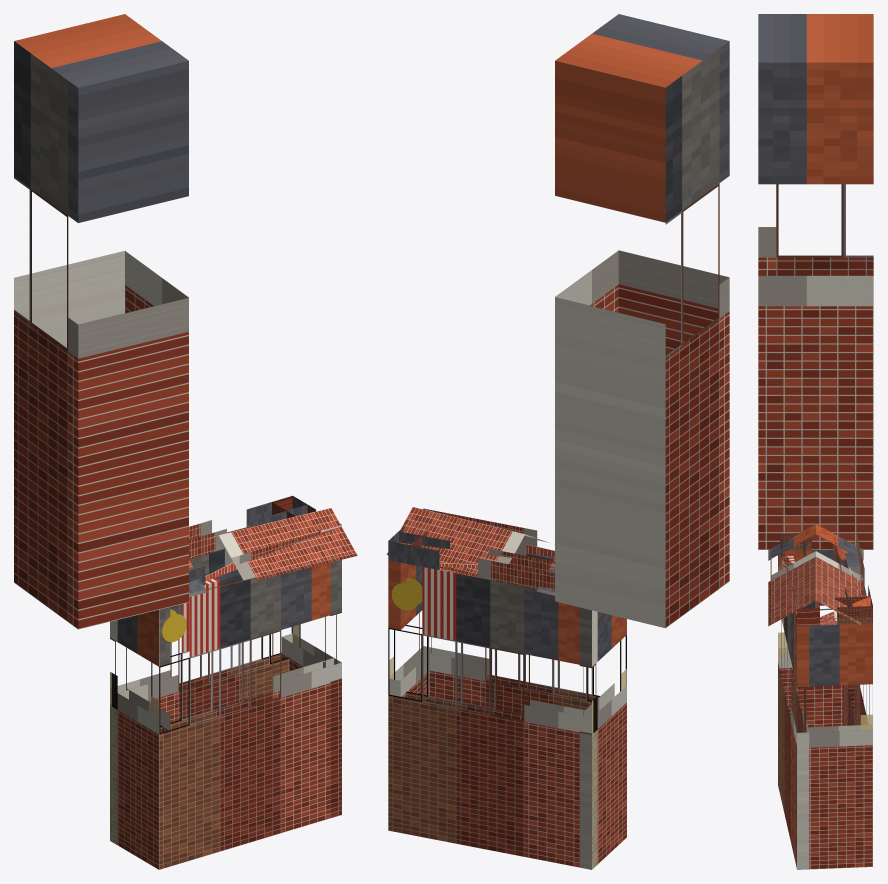
3 views of the same model, side by side, from view 1: azimuth 30°, elevation 25°; view 2: azimuth 150°, elevation 25°; view 3: azimuth 270°, elevation 25° (orthographic). The views are drawn at different scales.
Parts seen in each view (by area): view 1: 238572341__chimney_0_xb, 238572341__wall_0_xb, 238572341__wall_3_xb, 238572341__wall_2_xb, 238572341_roof_-1_xb, 238572341__wall_1_xb, 238572341__cornice_2, 238572341__cornice_0; view 2: 238572341__chimney_0_xb, 238572341__wall_2_xb, 238572341__wall_3_xb, 238572341__wall_0_xb, 238572341_roof_1_xb, 238572341__cornice_2, 238572341__wall_1_xb, 238572341__cornice_0; view 3: 238572341__chimney_0_xb, 238572341__wall_1_xb, 238572341__wall_0_xb, 238572341_roof_-1_xb, 238572341__wall_3_xb, 238572341_roof_1_xb, 238572341__wall_2_xb, 238572341__cornice_1, 238572341__cornice_0, 238572341__cornice_2, 238572341__cornice_3.
Boxes of the visible parts, box(x1,y1,x2,y2) form: 238572341__chimney_0_xb: box(14, 14, 188, 629); 238572341__wall_0_xb: box(151, 562, 341, 869); 238572341__wall_3_xb: box(110, 607, 170, 869); 238572341__wall_2_xb: box(110, 548, 300, 844); 238572341_roof_-1_xb: box(189, 508, 357, 596); 238572341__wall_1_xb: box(281, 559, 341, 817); 238572341__cornice_2: box(189, 496, 307, 558); 238572341__cornice_0: box(189, 531, 320, 585); 238572341__chimney_0_xb: box(555, 14, 729, 628); 238572341__wall_2_xb: box(388, 567, 597, 869); 238572341__wall_3_xb: box(579, 607, 626, 869); 238572341__wall_0_xb: box(417, 553, 626, 713); 238572341_roof_1_xb: box(386, 507, 554, 595); 238572341__cornice_2: box(388, 531, 554, 588); 238572341__wall_1_xb: box(388, 560, 431, 697); 238572341__cornice_0: box(423, 508, 554, 557); 238572341__chimney_0_xb: box(758, 14, 873, 549); 238572341__wall_1_xb: box(796, 622, 872, 869); 238572341__wall_0_xb: box(778, 555, 809, 869); 238572341_roof_-1_xb: box(768, 524, 815, 626); 238572341__wall_3_xb: box(778, 550, 854, 727); 238572341_roof_1_xb: box(816, 524, 863, 626); 238572341__wall_2_xb: box(843, 550, 872, 730); 238572341__cornice_1: box(795, 596, 872, 625); 238572341__cornice_0: box(780, 534, 819, 626); 238572341__cornice_2: box(833, 533, 870, 606); 238572341__cornice_3: box(780, 533, 811, 550).
Bounding box in the file's own units: 0.3858 × 1.05 × 0.15.
1 material, 1 textured.
